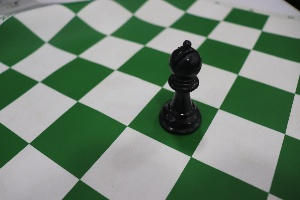black_bishop: (155, 30, 206, 145)
